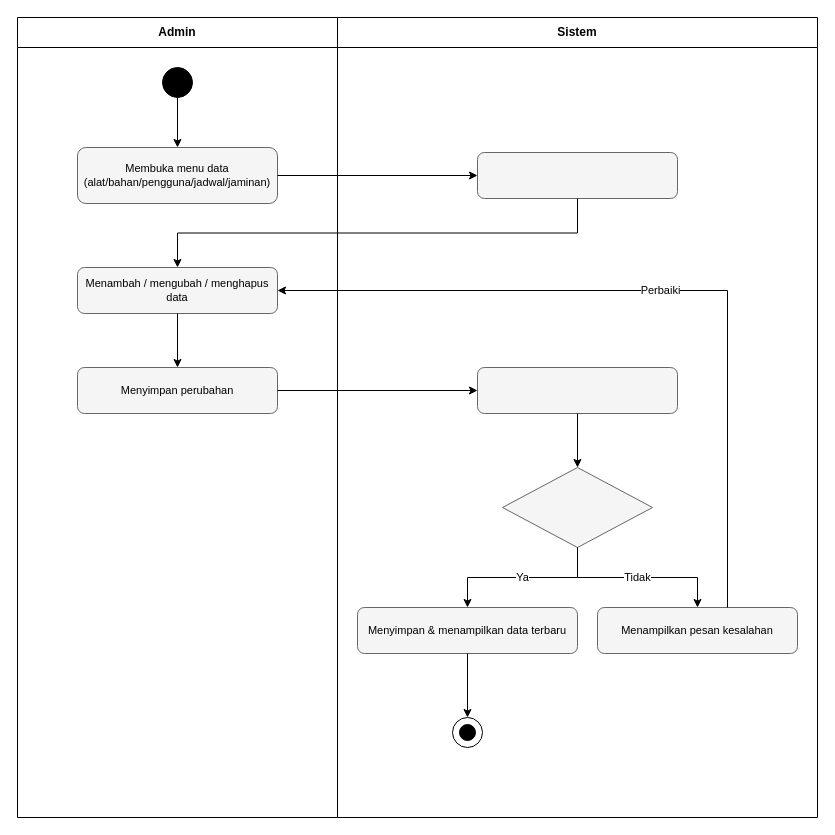
This 835x835 diagram has some shape labels left out. Each missing label, with the centre of its shape:
Data valid?: (x=577, y=507)
Memeriksa isian data: (x=577, y=390)
Menampilkan daftar data: (x=577, y=175)
